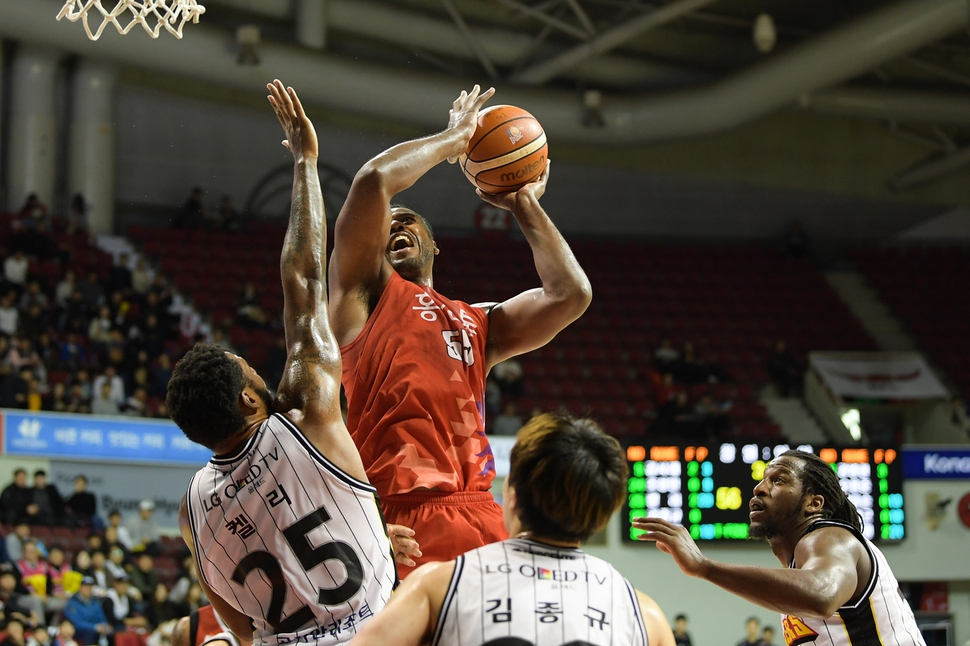defense: (144, 66, 392, 646)
shoot: (318, 83, 597, 585)
